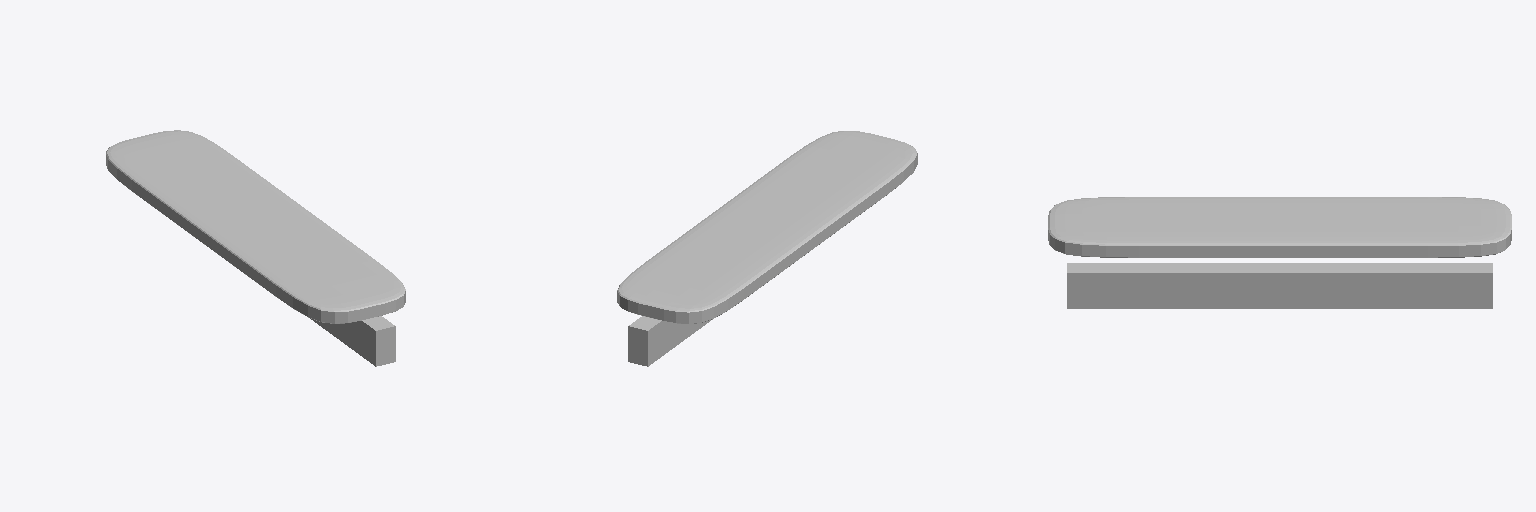
Rendered from top.obj.
3 renders of one model, left to right at view 1: azimuth 30°, elevation 25°; view 2: azimuth 150°, elevation 25°; view 3: azimuth 270°, elevation 25°, orthographic.
Visible parts, largest first — view 1: 叉车; view 2: 叉车; view 3: 叉车.
Boxes of the visible parts, box(x1,y1,x2,y2) form: 叉车: box(106, 130, 405, 366); 叉车: box(617, 131, 917, 366); 叉车: box(1048, 197, 1511, 308).
Size of the model in its own units: 32.88 by 22.74 by 132.